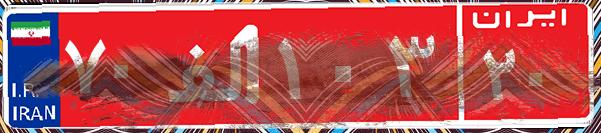0: (330, 28, 385, 110), (110, 28, 158, 105), (525, 38, 570, 115)
1: (273, 28, 330, 110)
2: (475, 38, 525, 113)
3: (385, 28, 445, 110)
7: (57, 26, 110, 107)
الف: (158, 15, 273, 115)
